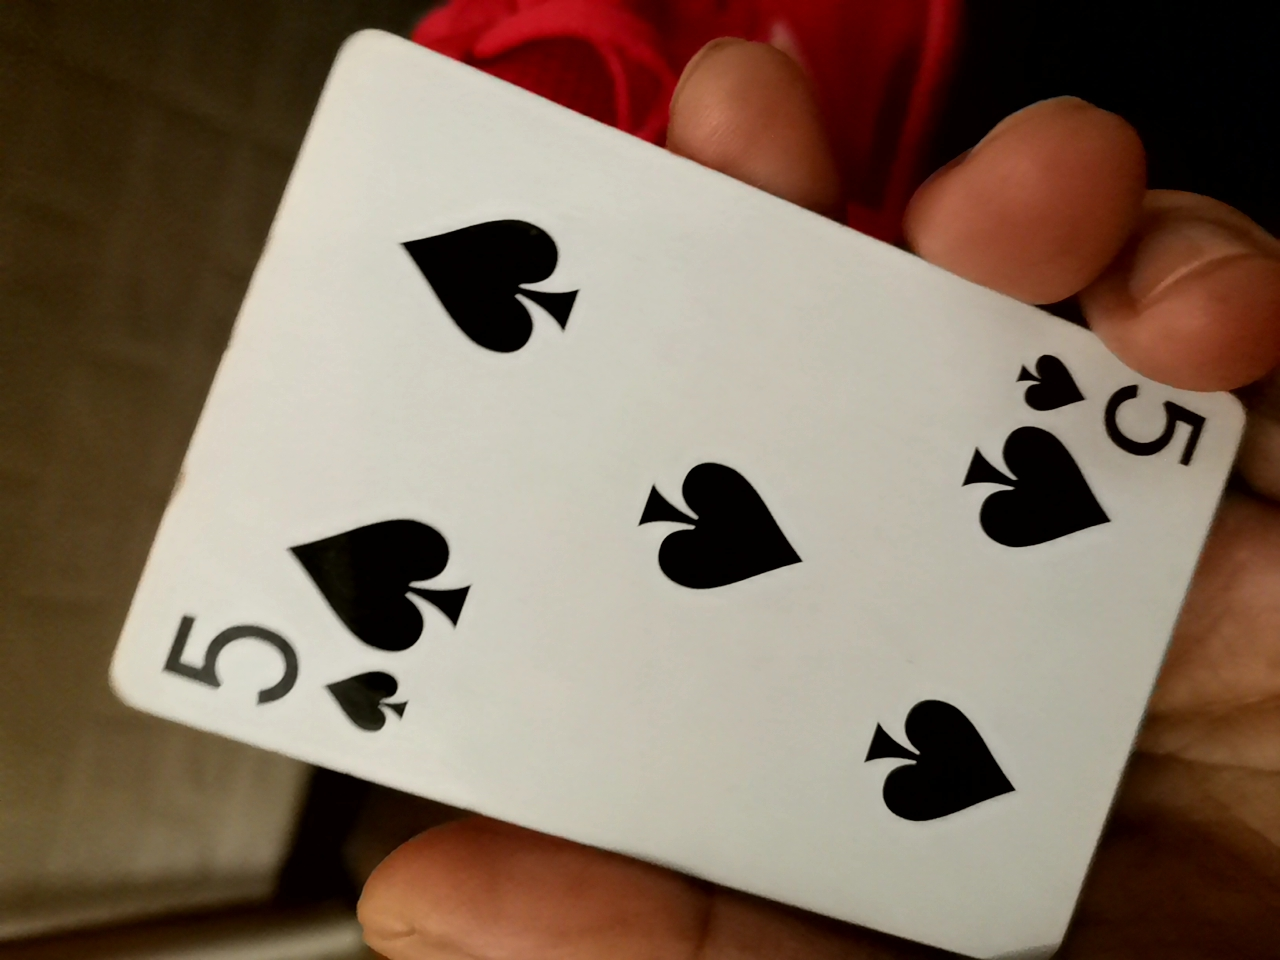ht 5: (120, 42, 1270, 953)
